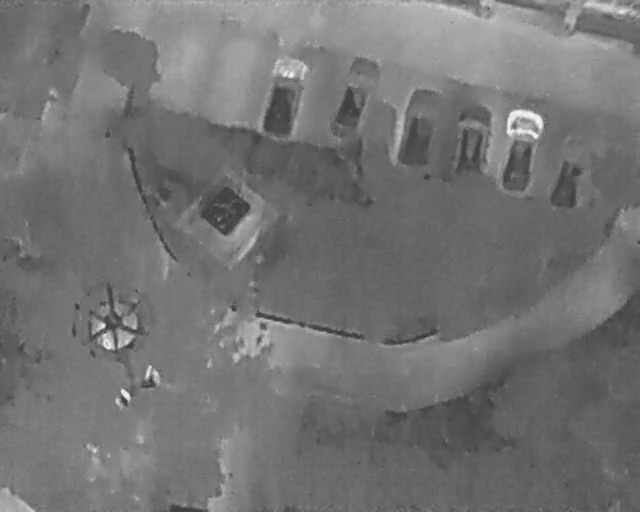Car: (324, 50, 389, 146), (252, 49, 313, 146), (391, 82, 450, 174), (494, 104, 548, 200), (545, 128, 603, 215), (447, 100, 499, 185)
